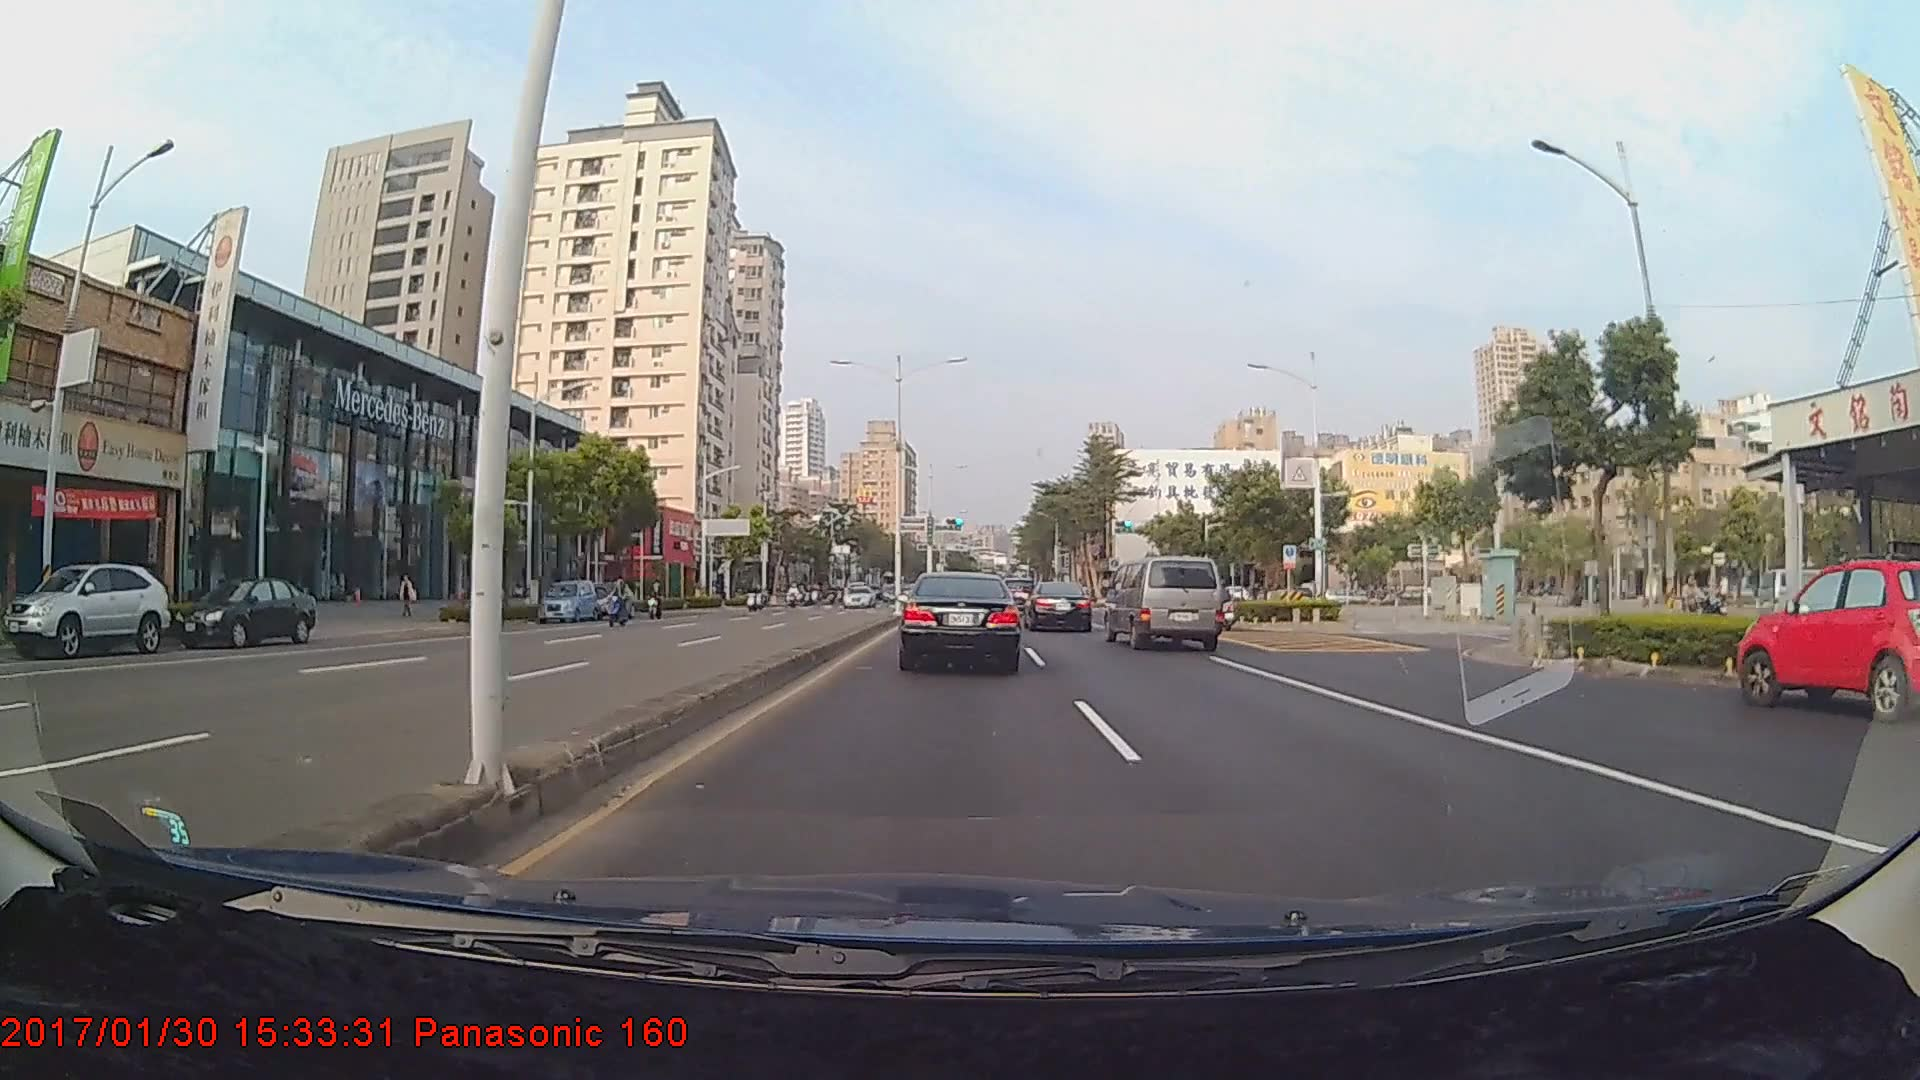pedestrian: (397, 572, 419, 619)
rider: (605, 576, 635, 630)
vehicle: (1730, 554, 1920, 726), (0, 562, 172, 659), (898, 571, 1021, 671), (1106, 554, 1223, 651), (174, 575, 317, 650), (1022, 580, 1094, 633), (536, 579, 598, 624), (583, 579, 634, 620), (840, 584, 877, 609)
